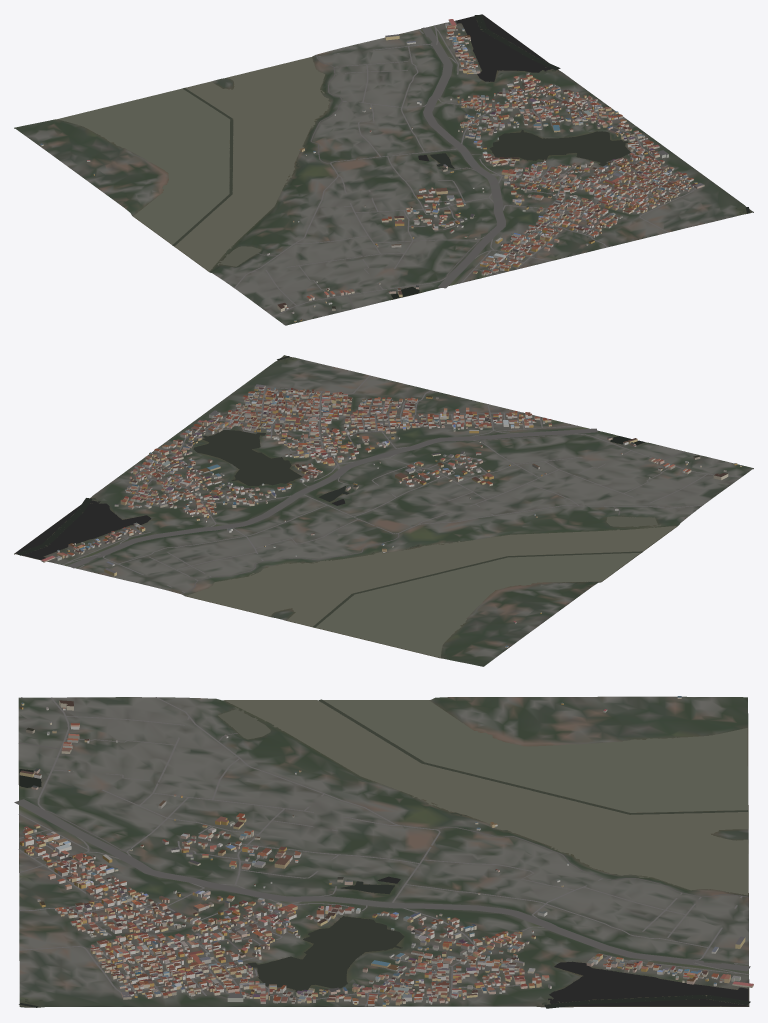
3 renders of one model, top to bottom at view 1: azimuth 30°, elevation 25°; view 2: azimuth 150°, elevation 25°; view 3: azimuth 270°, elevation 25°, orthographic. The views are drawn at different scales.
Visible parts, largest first — view 1: ground, water, buildings, roads; view 2: ground, water, buildings, roads; view 3: ground, water, buildings, roads.
Part boxes in pixels (box(x1,y1,x2,y2)): ground: box(14, 15, 753, 325); water: box(57, 14, 749, 298); buildings: box(39, 19, 704, 322); roads: box(234, 25, 696, 324); ground: box(14, 355, 753, 666); water: box(15, 356, 676, 657); buildings: box(41, 384, 741, 647); roads: box(62, 375, 752, 594); ground: box(18, 696, 749, 1007); water: box(19, 699, 750, 1008); buildings: box(19, 696, 753, 1006); roads: box(14, 697, 750, 1006).
Bounding box in the file's own units: 1412 × 18.26 × 1422.
